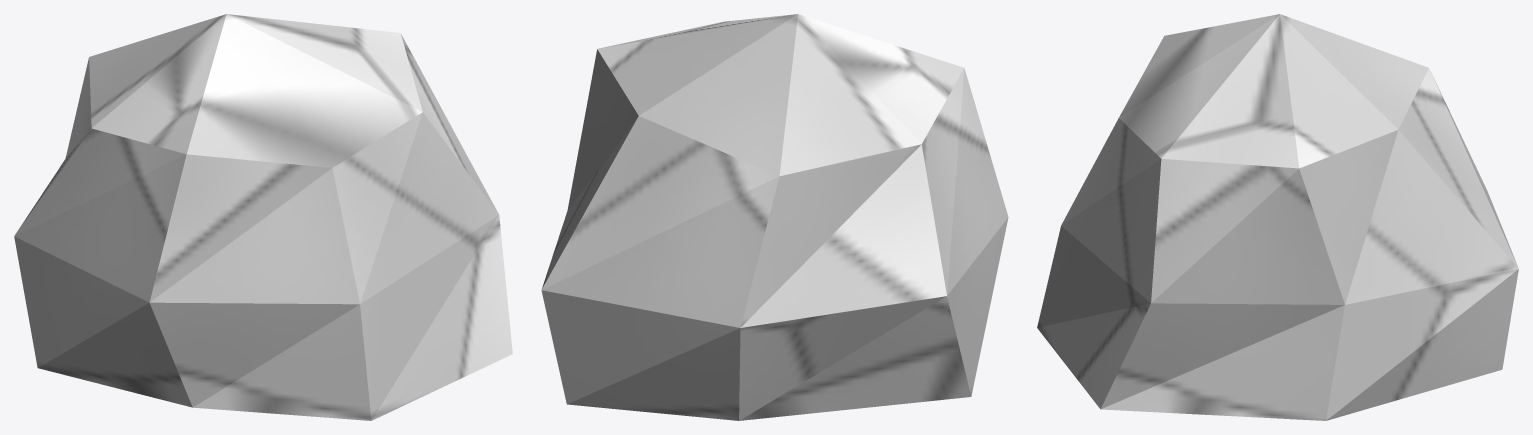
File: boulder_1.obj
3 views of the same model, side by side, from view 1: azimuth 30°, elevation 25°; view 2: azimuth 150°, elevation 25°; view 3: azimuth 270°, elevation 25° (orthographic). The views are drawn at different scales.
Visible parts, largest first — view 1: boulder_1; view 2: boulder_1; view 3: boulder_1.
Part boxes in pixels (left/top/right/bottom): boulder_1: left=14, top=14, right=512, bottom=420; boulder_1: left=541, top=14, right=1008, bottom=420; boulder_1: left=1037, top=14, right=1518, bottom=420.
Bounding box in the file's own units: 0.5803 × 0.4469 × 0.6391.
